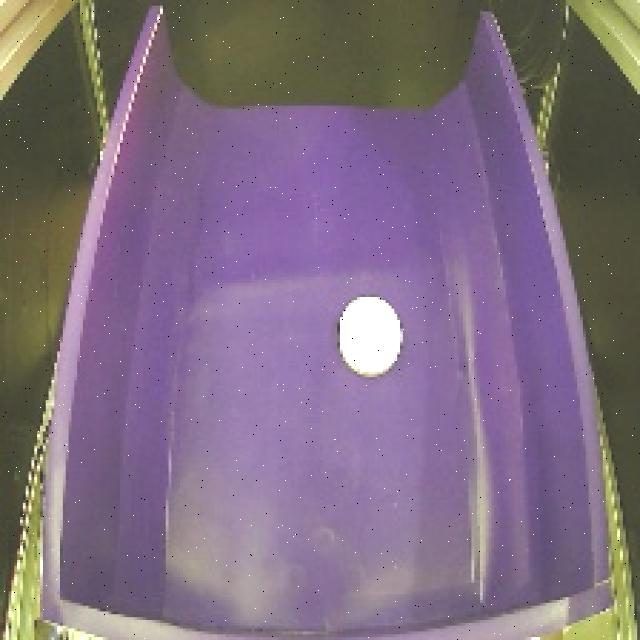small: (329, 292, 411, 386)
